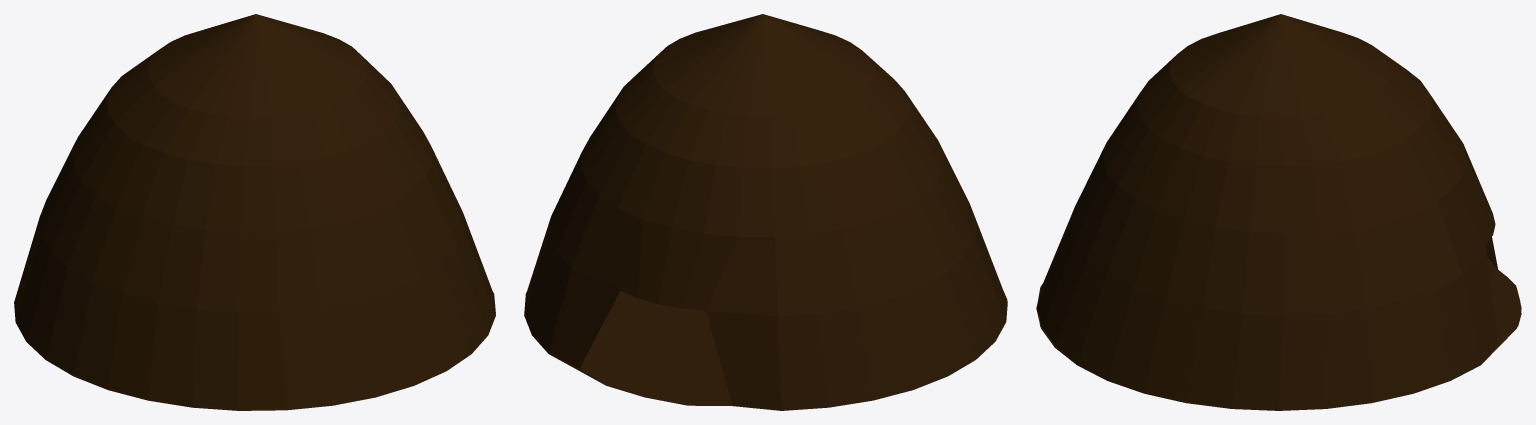
File: tree_house.fbx
3 views of the same model, side by side, from view 1: azimuth 30°, elevation 25°; view 2: azimuth 150°, elevation 25°; view 3: azimuth 270°, elevation 25° (orthographic).
Visible parts, largest first — view 1: Cone; view 2: Cone; view 3: Cone.
Part boxes in pixels (x1,y1,x2,y2): Cone: (14,14,495,410); Cone: (524,14,1007,410); Cone: (1036,14,1521,410).
Size of the model in its own units: 144 by 96.42 by 144.
